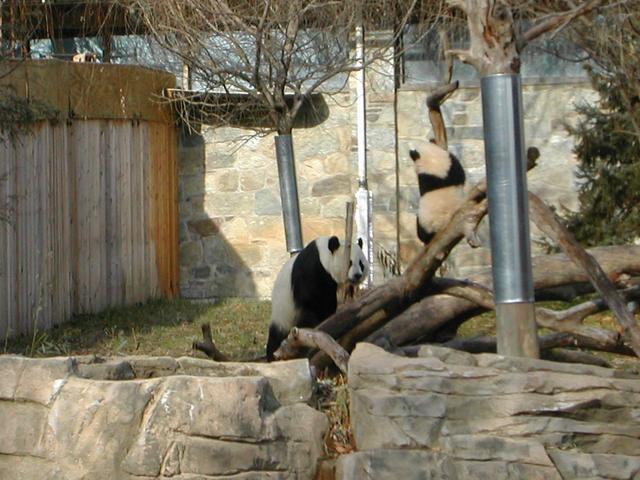panda: (251, 210, 384, 335), (384, 121, 479, 248)
